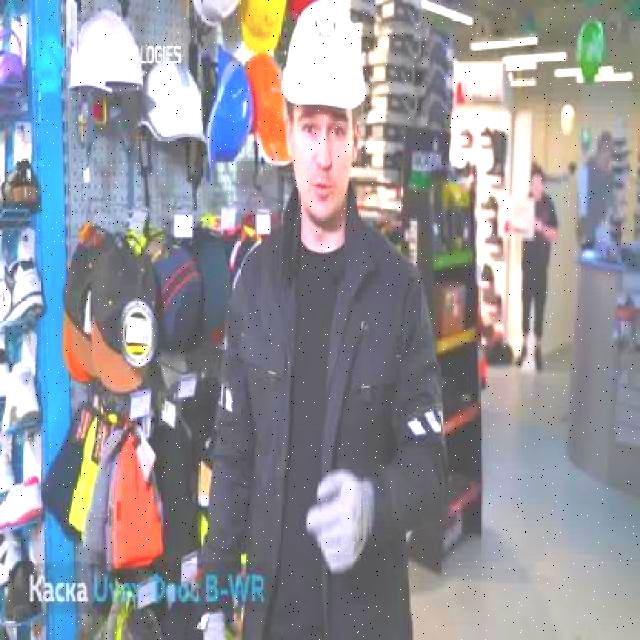Gloves: (303, 464, 374, 574)
Helmet: (282, 0, 370, 108), (69, 9, 145, 100), (139, 58, 212, 144), (207, 45, 256, 170), (248, 54, 294, 164), (236, 0, 290, 57), (189, 0, 243, 32)
